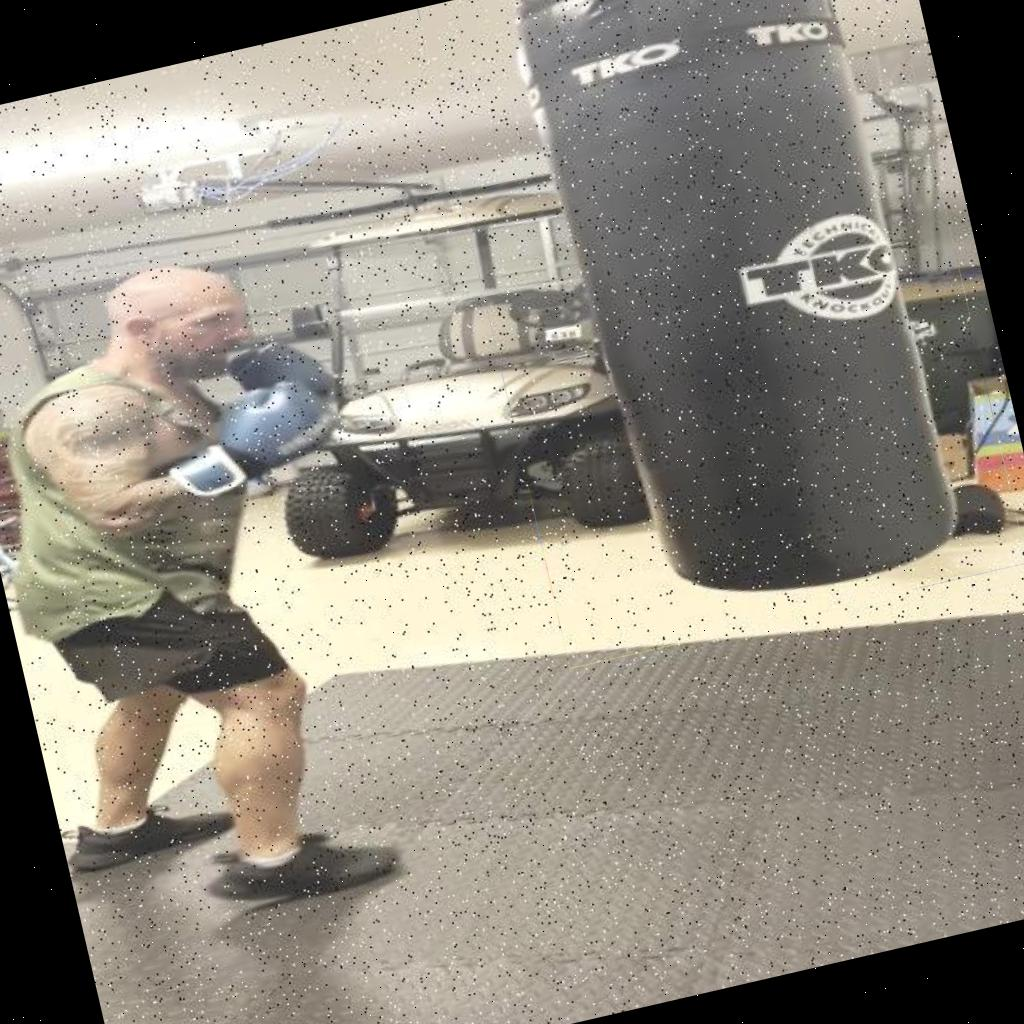bag: (418, 0, 1024, 669)
no punch: (0, 214, 387, 577)
